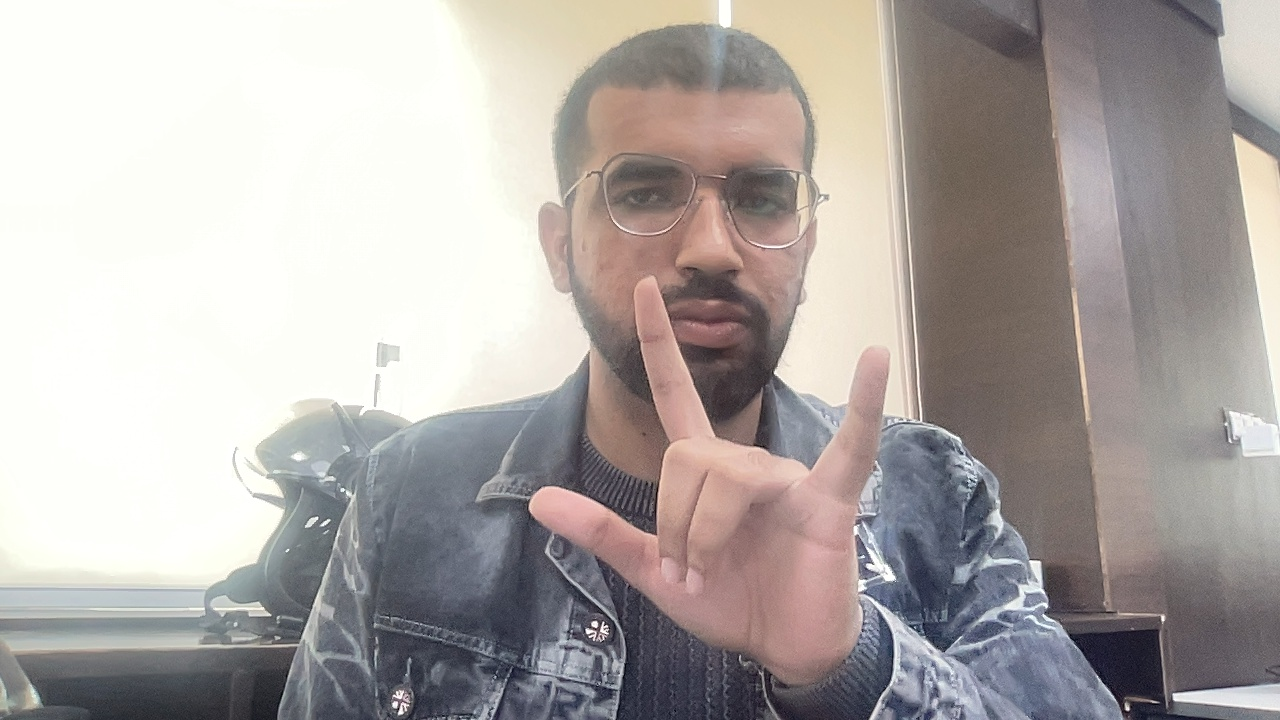I Love You: (484, 263, 953, 679)
